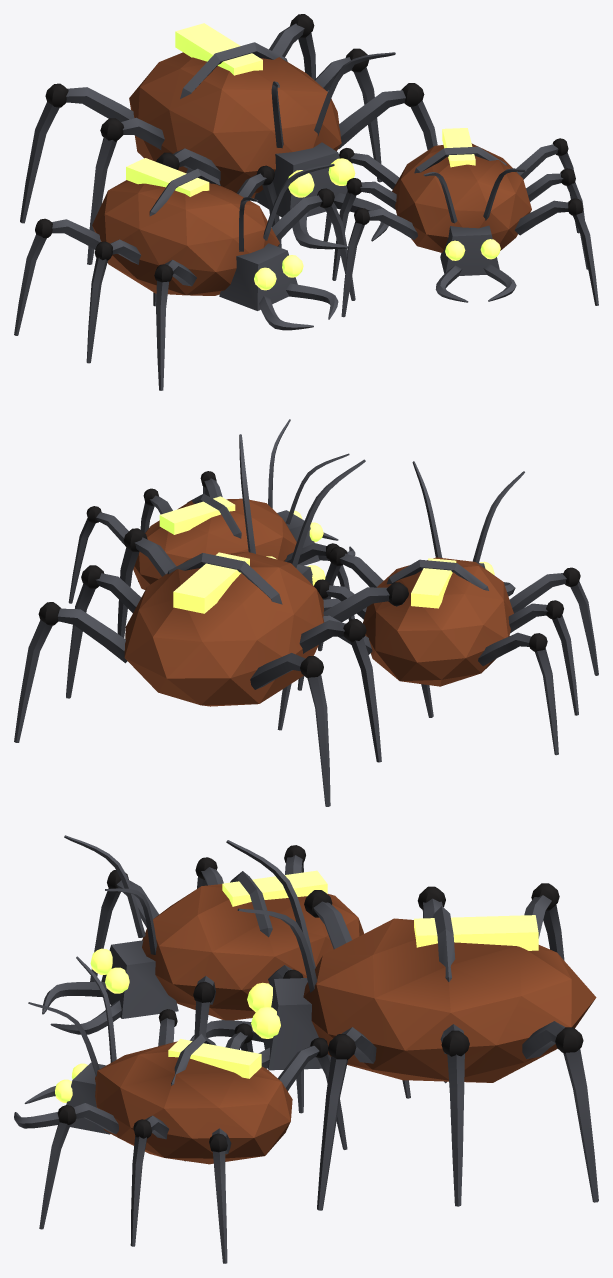
File: rust_mite.glb
3 renders of one model, top to bottom at view 1: azimuth 30°, elevation 25°; view 2: azimuth 150°, elevation 25°; view 3: azimuth 270°, elevation 25°, orthographic. The views are drawn at different scales.
Parts seen in each view (by area): view 1: body; view 2: body; view 3: body.
Part boxes in pixels (x1,y1,x2,y2): body: [14, 14, 598, 390]; body: [14, 419, 598, 806]; body: [14, 835, 598, 1263].
Bounding box in the file's own units: 1.92 × 0.7586 × 1.58.
